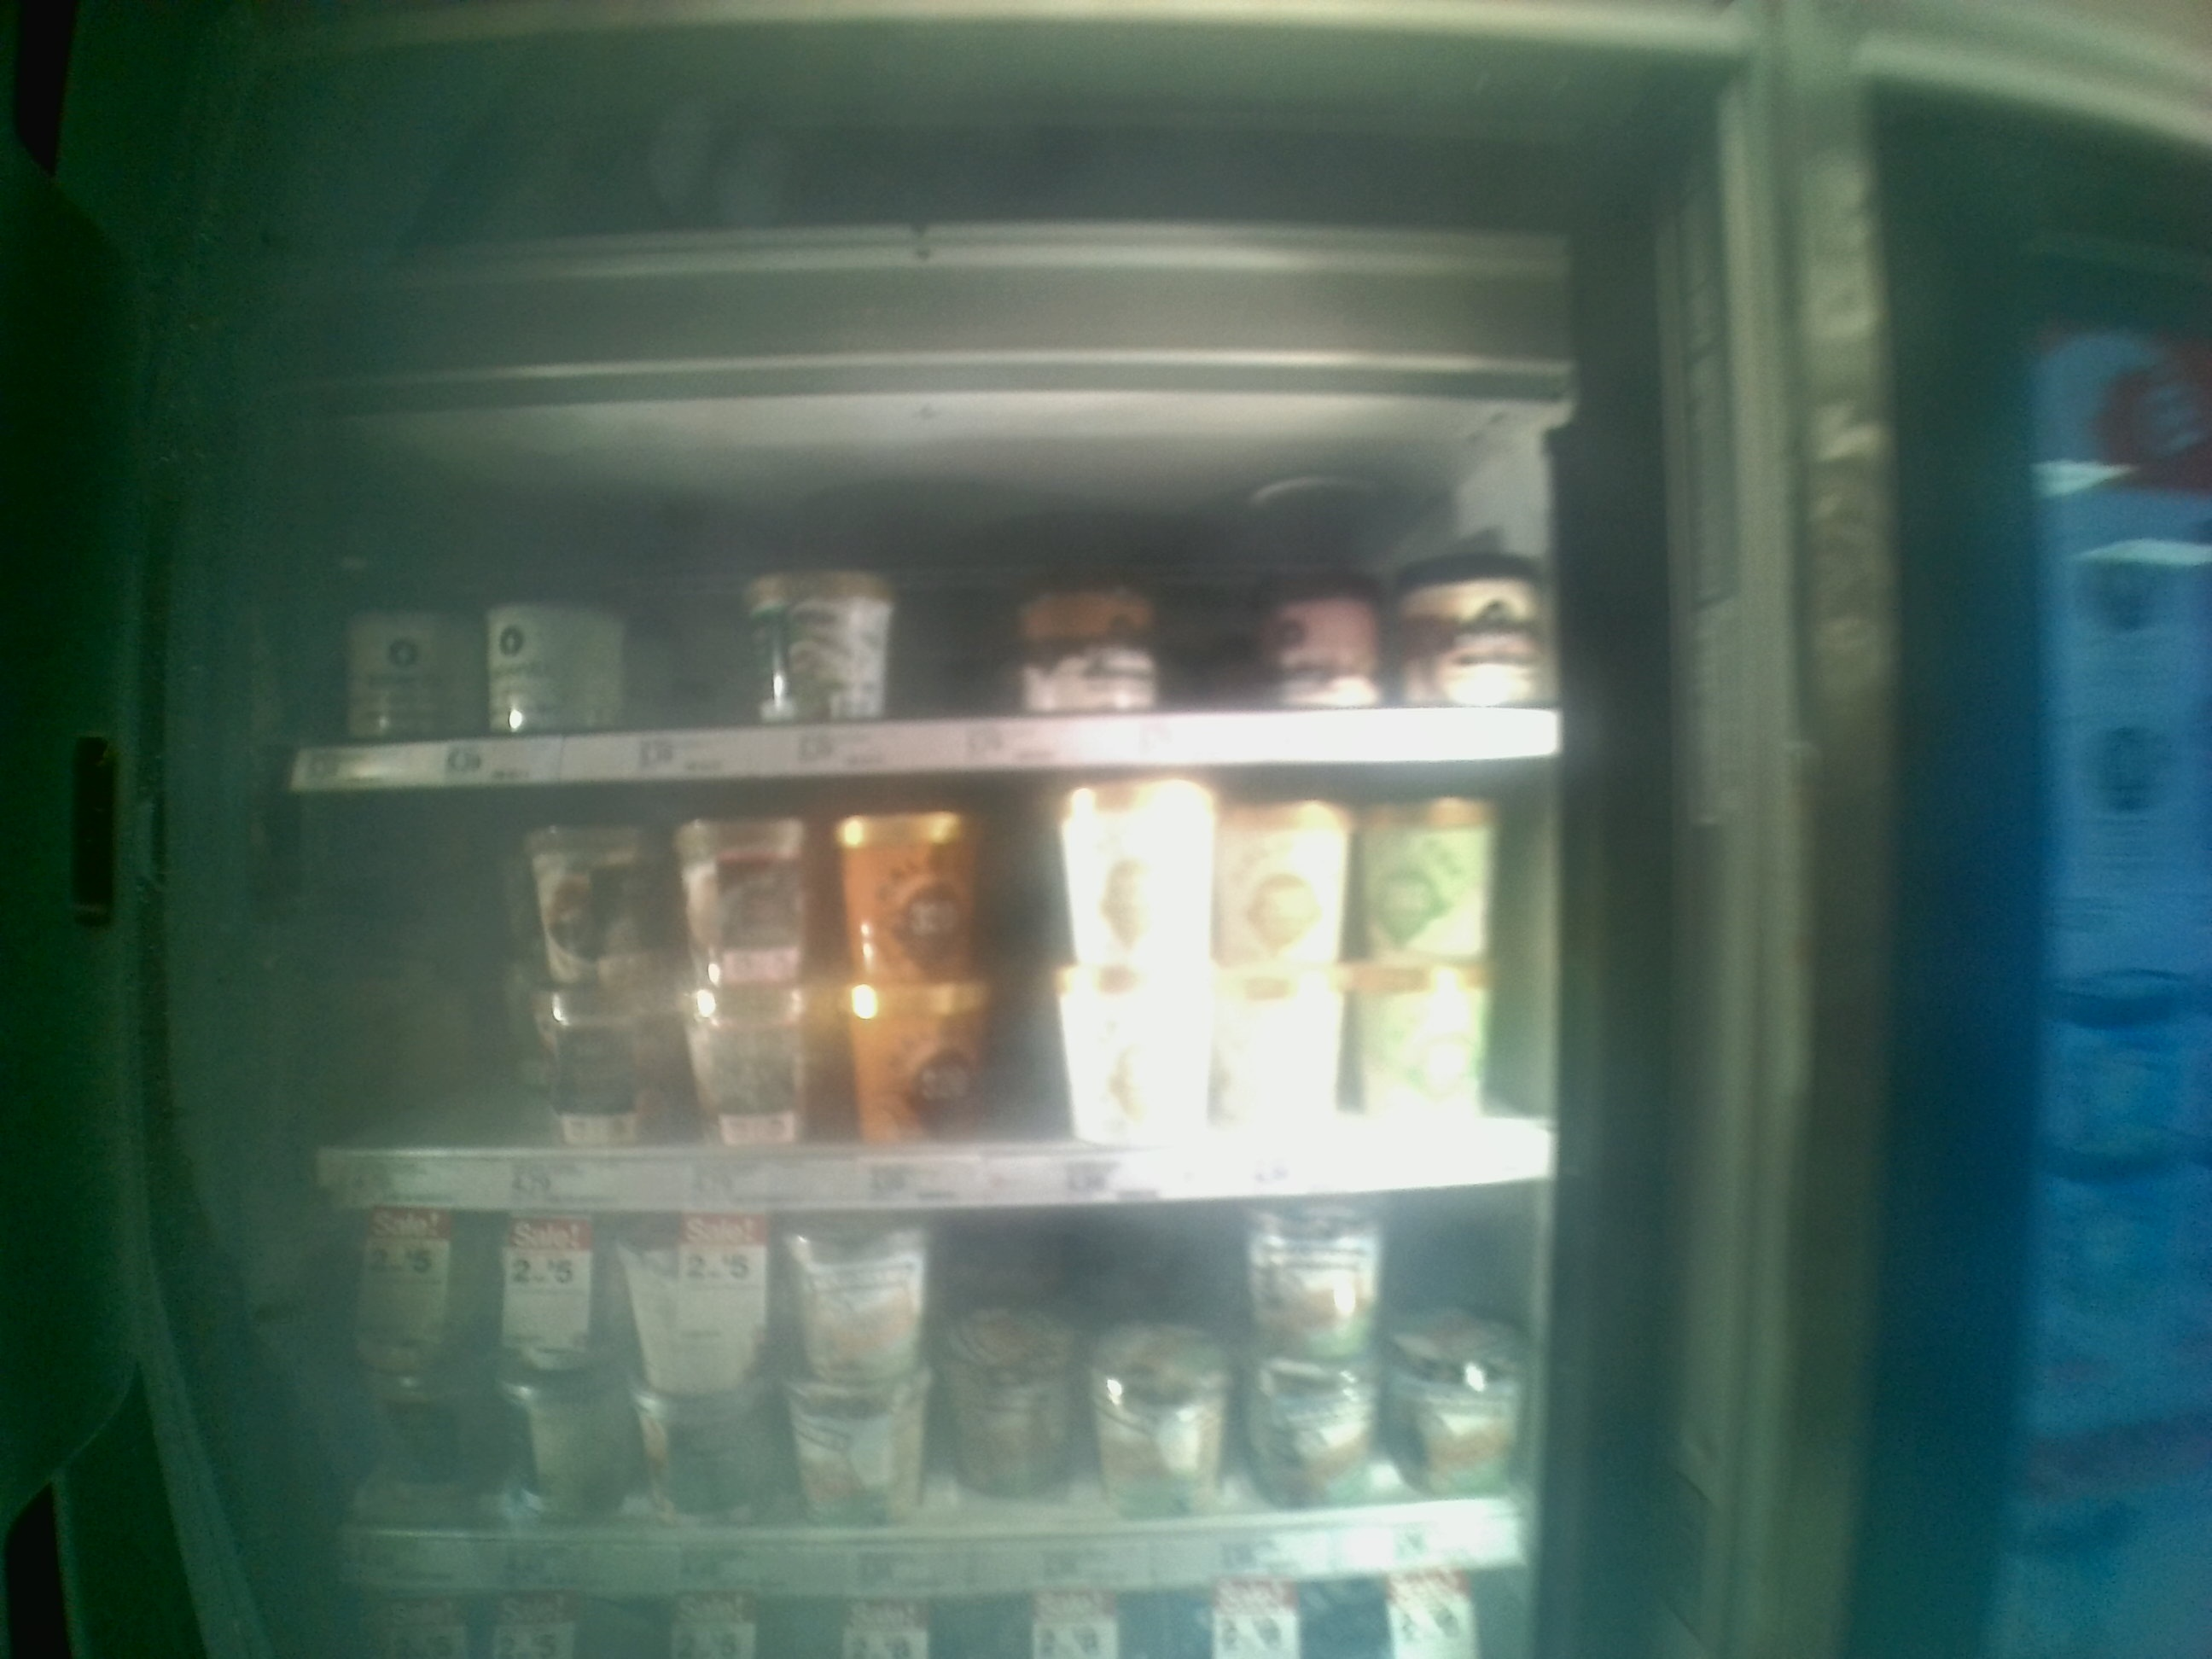shelf: (286, 758, 1559, 1201), (315, 1201, 1541, 1598), (286, 420, 1559, 796)
